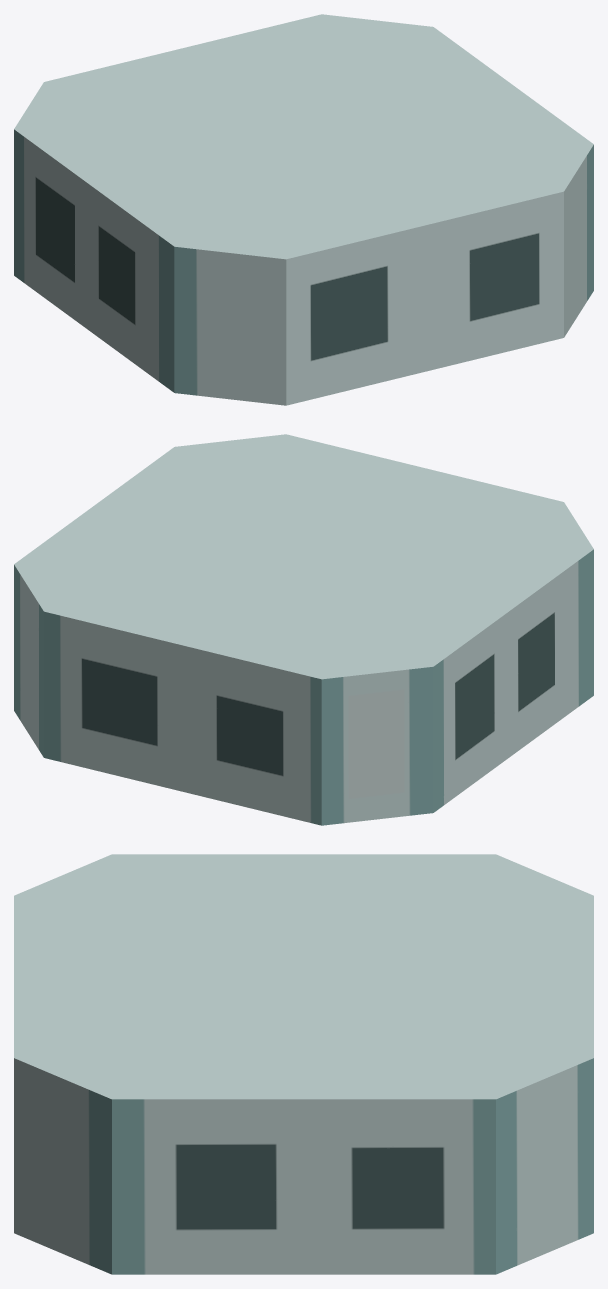
Rendered from Build.obj.
The picture shows the model from 3 angles, top to bottom: view 1: azimuth 30°, elevation 25°; view 2: azimuth 150°, elevation 25°; view 3: azimuth 270°, elevation 25°; orthographic projection. The views are drawn at different scales.
Visible parts, largest first — view 1: Cube; view 2: Cube; view 3: Cube.
Boxes of the visible parts, box(x1,y1,x2,y2) form: Cube: box(14, 14, 593, 405); Cube: box(14, 434, 593, 825); Cube: box(14, 854, 593, 1274).
Bounding box in the file's own units: 1 × 0.3333 × 1.
1 material, 1 textured.
